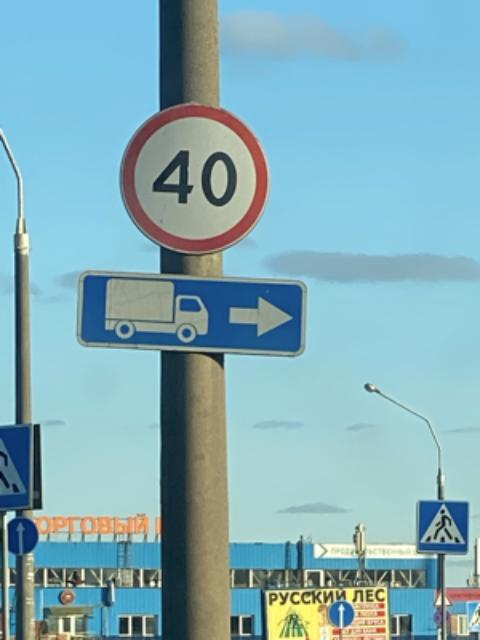crosswalk-sign: (415, 499, 473, 557)
